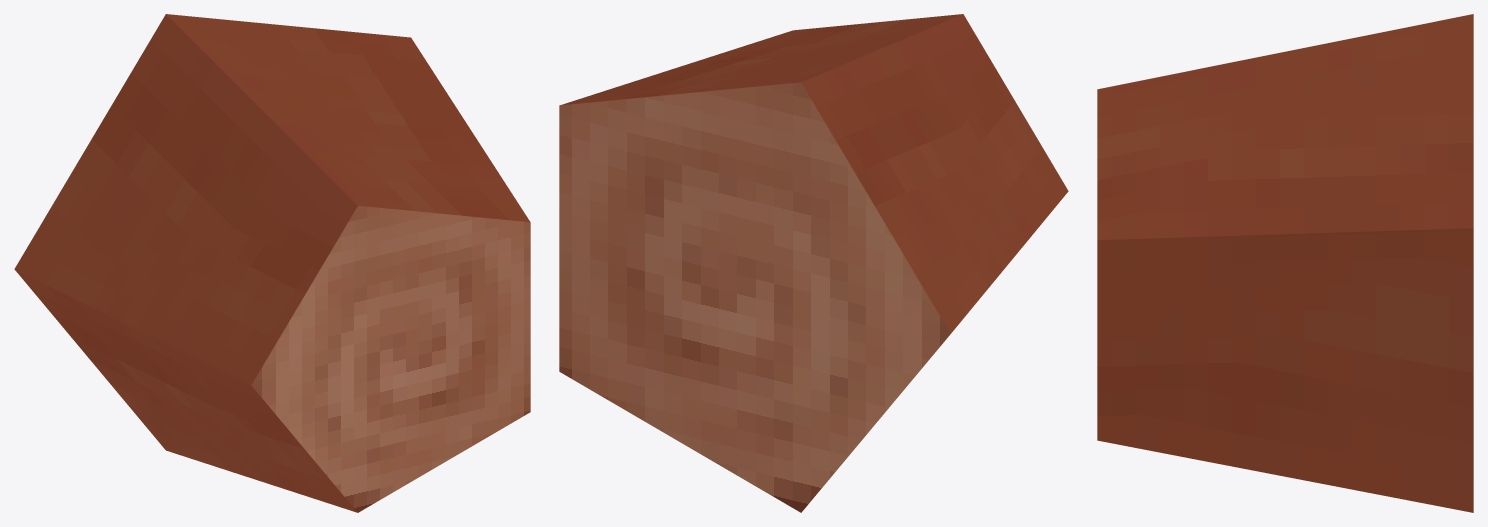
Rendered from SM_AP_Tree_Stump_7.glb.
3 renders of one model, left to right at view 1: azimuth 30°, elevation 25°; view 2: azimuth 150°, elevation 25°; view 3: azimuth 270°, elevation 25°, orthographic. The views are drawn at different scales.
Visible parts, largest first — view 1: SM_AP_Tree_Stump_7; view 2: SM_AP_Tree_Stump_7; view 3: SM_AP_Tree_Stump_7.
Part boxes in pixels (left/top/right/bottom): SM_AP_Tree_Stump_7: left=14, top=14, right=530, bottom=512; SM_AP_Tree_Stump_7: left=559, top=14, right=1068, bottom=512; SM_AP_Tree_Stump_7: left=1097, top=14, right=1473, bottom=512.
Size of the model in its own units: 2.57 by 2.7 by 2.
Materials: 1 (1 with a texture image).
